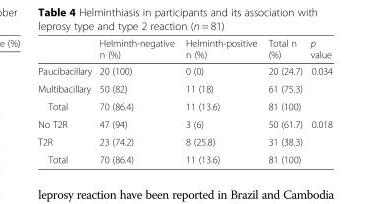table: (37, 37, 331, 164)
table column: (94, 37, 179, 164), (179, 37, 262, 164), (37, 37, 94, 164), (262, 37, 305, 164), (305, 37, 331, 164)
table column header: (37, 37, 331, 62)
table row: (37, 37, 331, 62), (37, 79, 331, 97), (37, 114, 331, 132), (37, 132, 331, 150), (37, 62, 331, 79), (37, 97, 331, 114), (37, 150, 331, 164)
table spanning cell: (305, 62, 331, 114), (305, 114, 331, 164)
